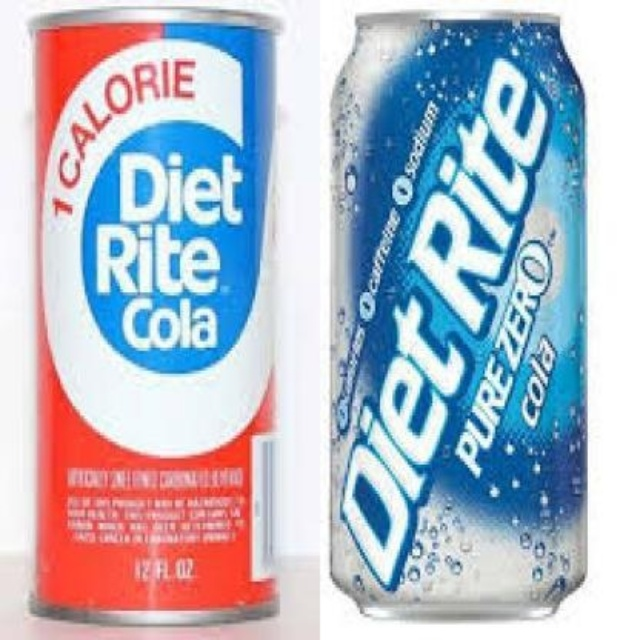trash: (331, 12, 585, 615), (31, 9, 275, 622)
